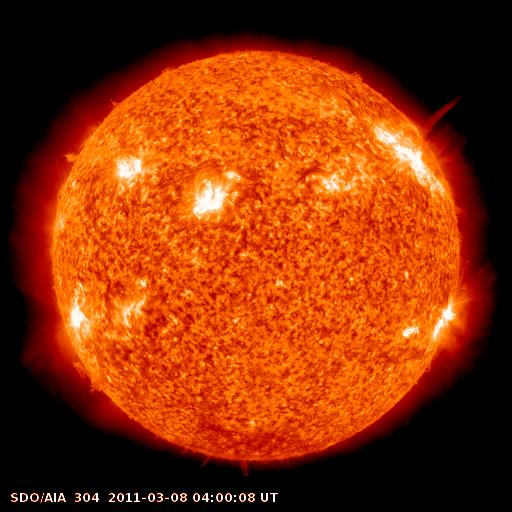prominence: (411, 83, 468, 152), (61, 354, 118, 401), (48, 136, 95, 178), (224, 447, 268, 483)
